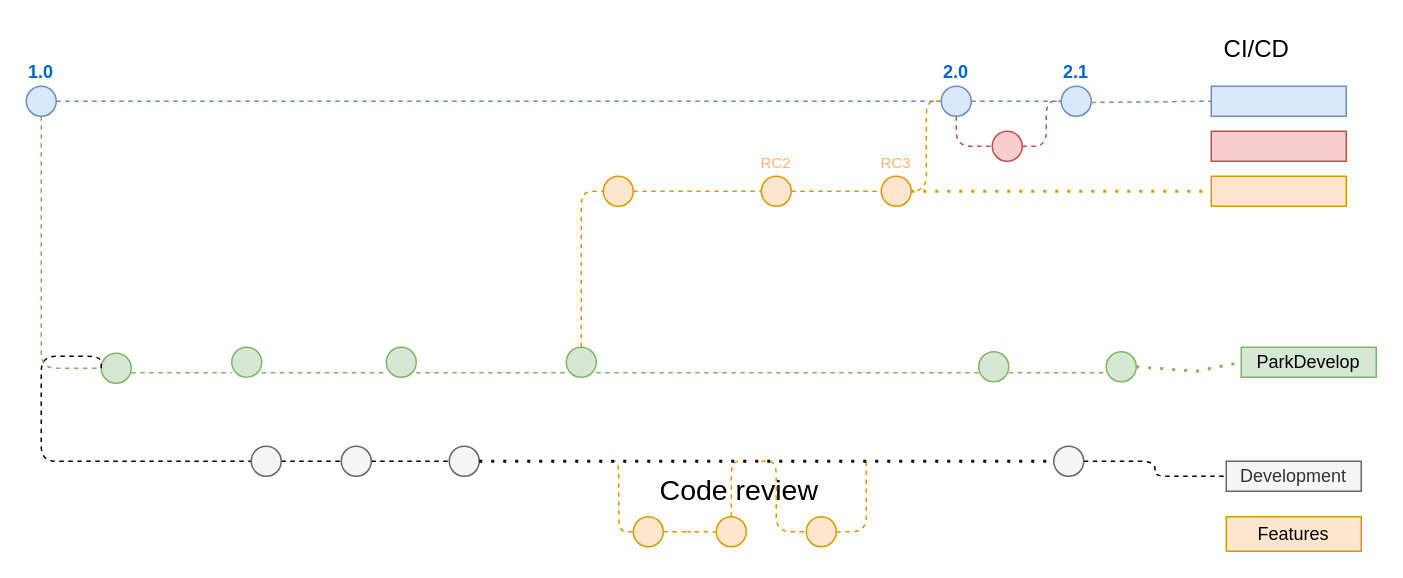
This 1403x578 diagram has some shape labels left out. The centre of each missing label's shape, as x and y in pixels:
"Hotfix" belongs at (x=1278, y=145).
"Master" belongs at (x=1278, y=100).
"RC1" belongs at (x=617, y=190).
"Release" belongs at (x=1278, y=190).
